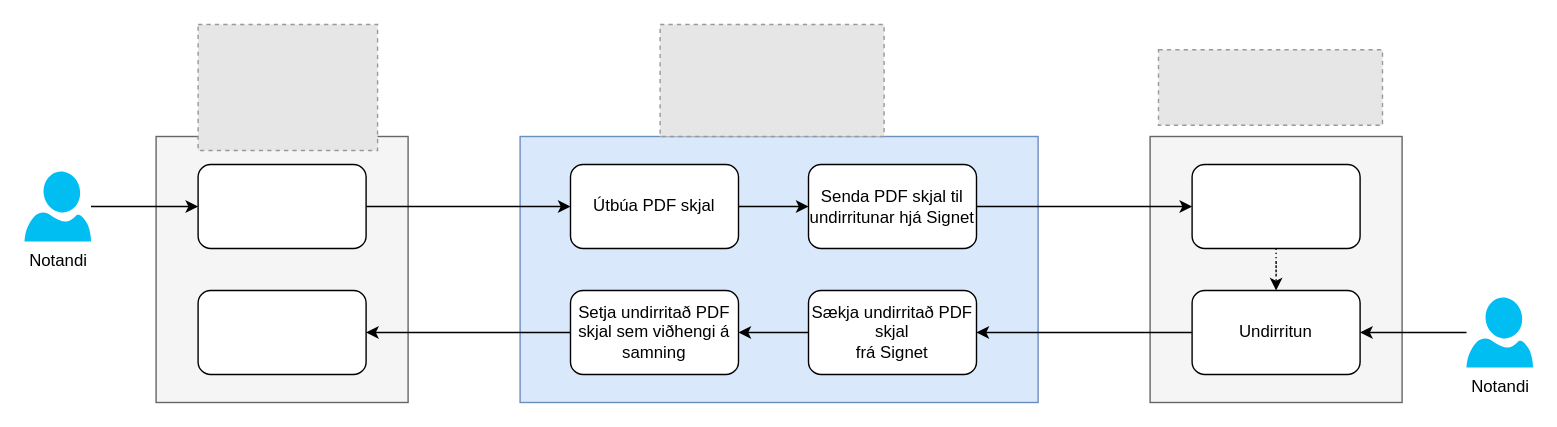
This 1557x427 diagram has some shape labels left out. Grey dashed boxes stand in for pictures. Here are the shapes that lost their labels. From the top down, the centre of each, then its label:
At (281,205): "Stofnar samgöngusamning".
At (1275,205): "PDF skjal til undirritunar".
At (281,331): "PDF skjal komip sem viðhengi á samgöngusamning".
